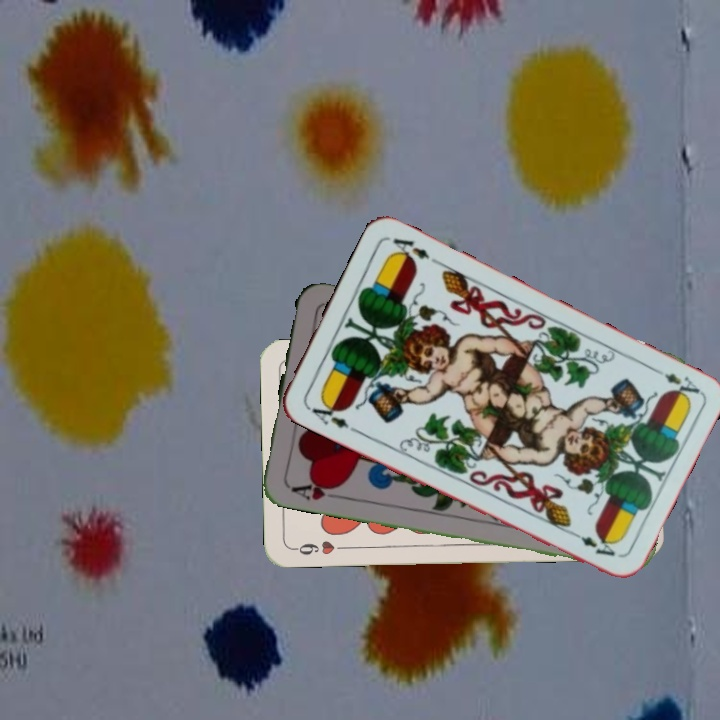EA: (647, 363, 703, 402), (303, 396, 352, 432)
H9: (289, 536, 348, 558)
HA: (286, 476, 344, 503)
